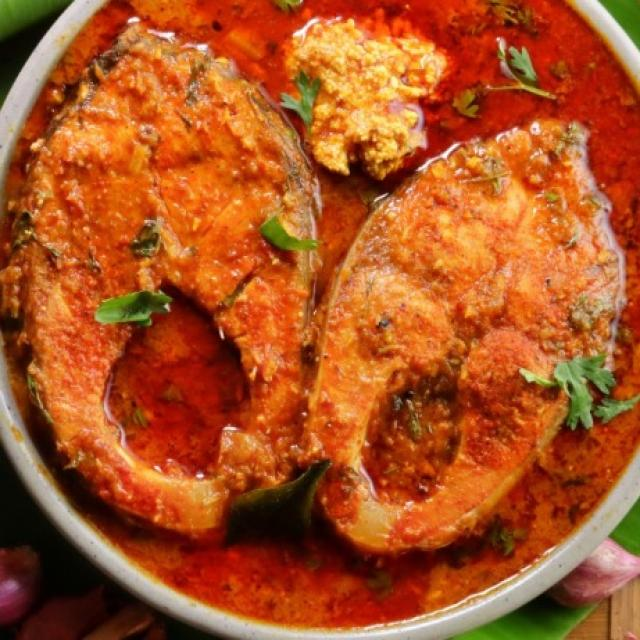FISH CURRY: (0, 0, 639, 628)
